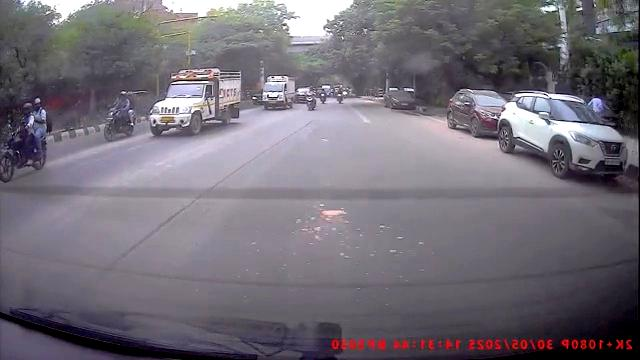motorcycle_with_helmet: (102, 90, 136, 142)
passenger_with_helmet: (0, 97, 50, 183)
